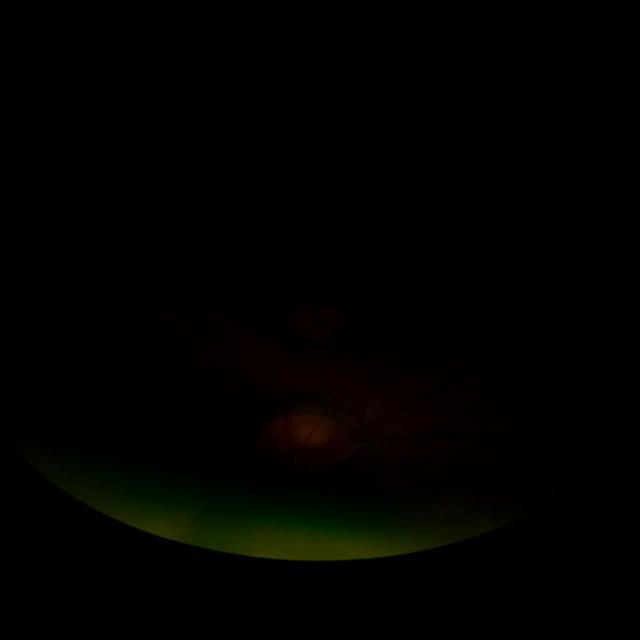cup: (281, 428, 334, 458)
disk: (254, 414, 352, 472)
